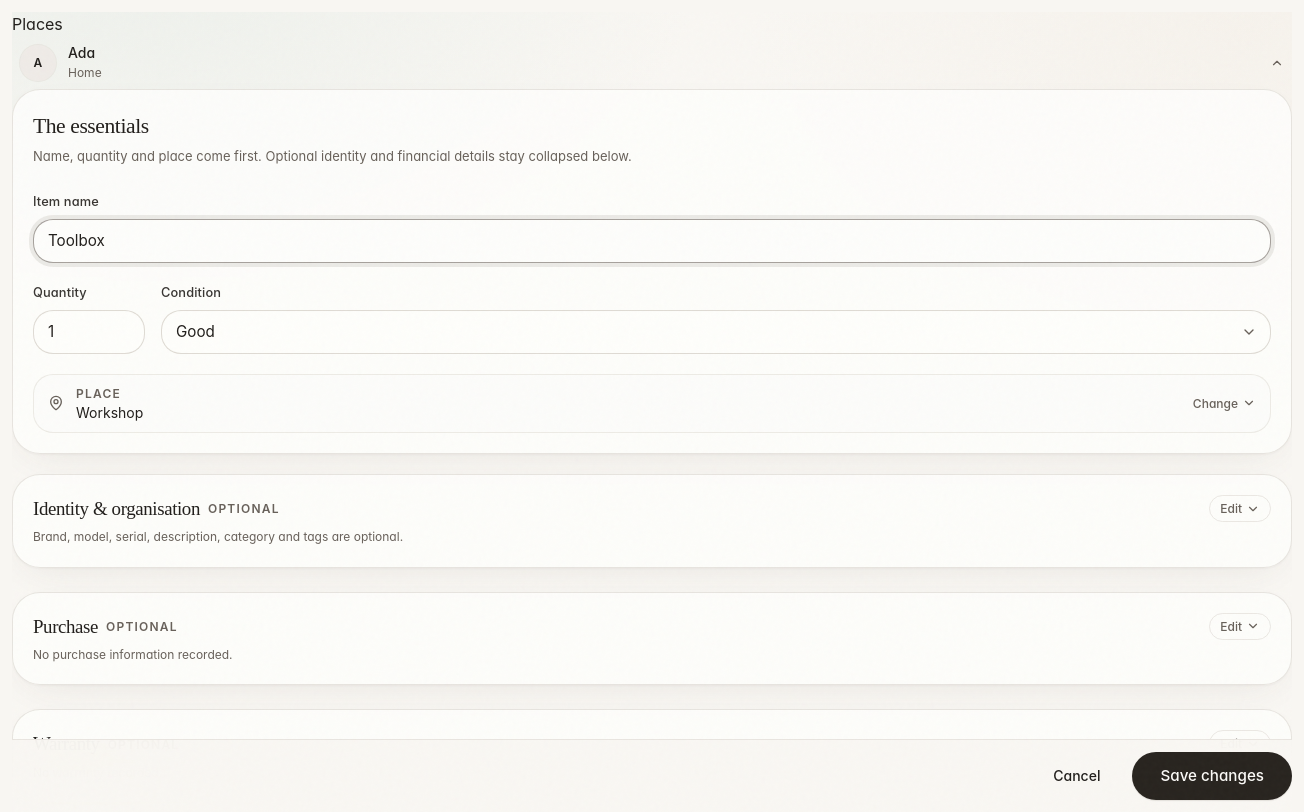
Test case: ItemForm navigation confirm › treats Cancel as an explicit discard: no prompt and no draft left behind
Replace the text in the field labelled "Item name" with "Red toolbox" at (652, 241), box left=33, top=219, right=1271, bottom=263
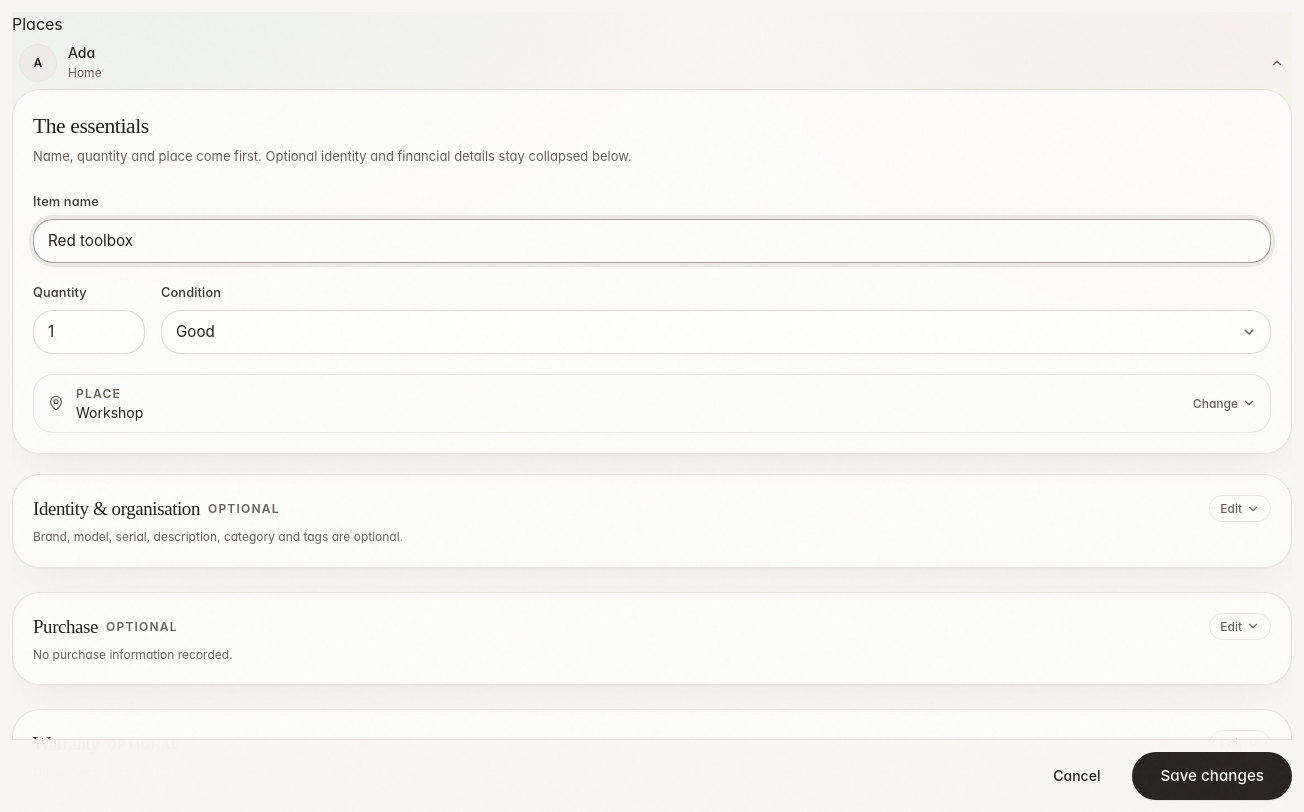
Click the button "Cancel" at (1077, 776), box left=1033, top=756, right=1120, bottom=796
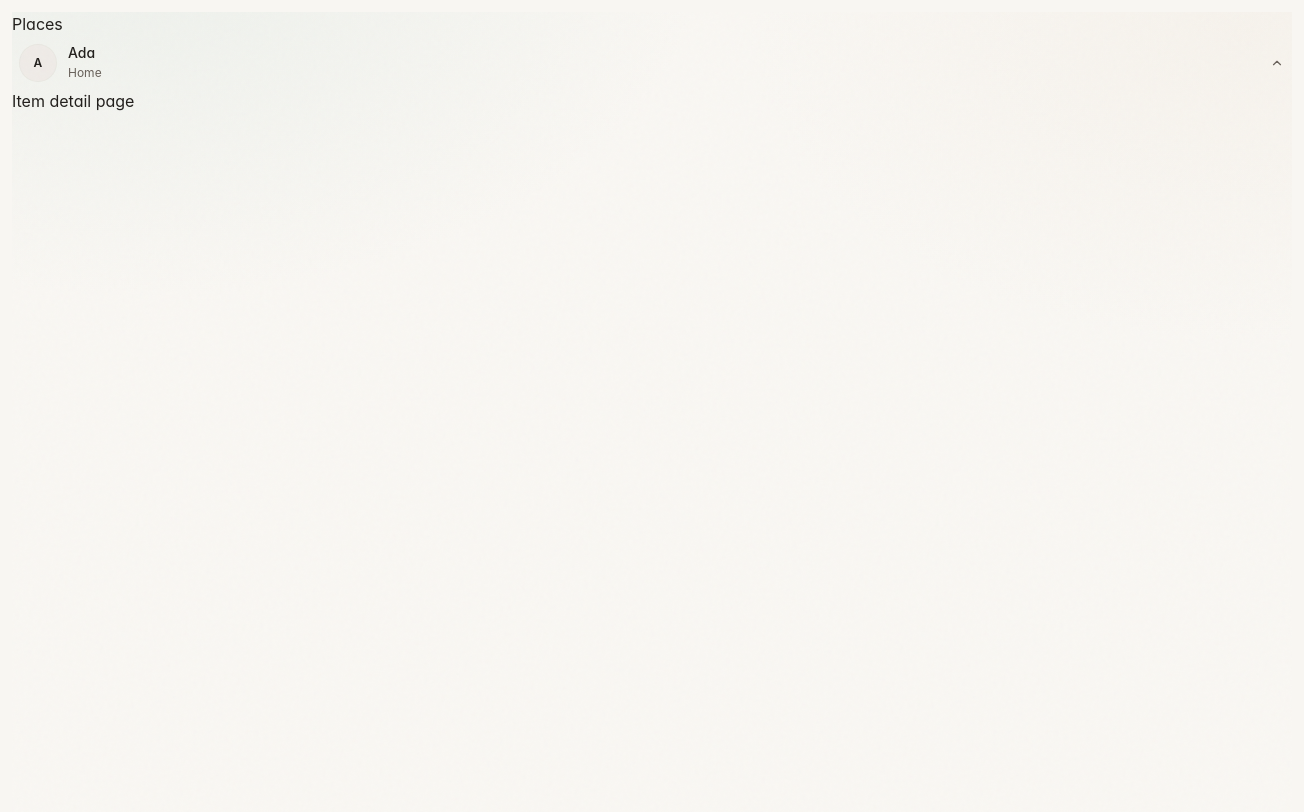
Result: the text "Item detail page" is shown at left=12, top=91, right=134, bottom=111
